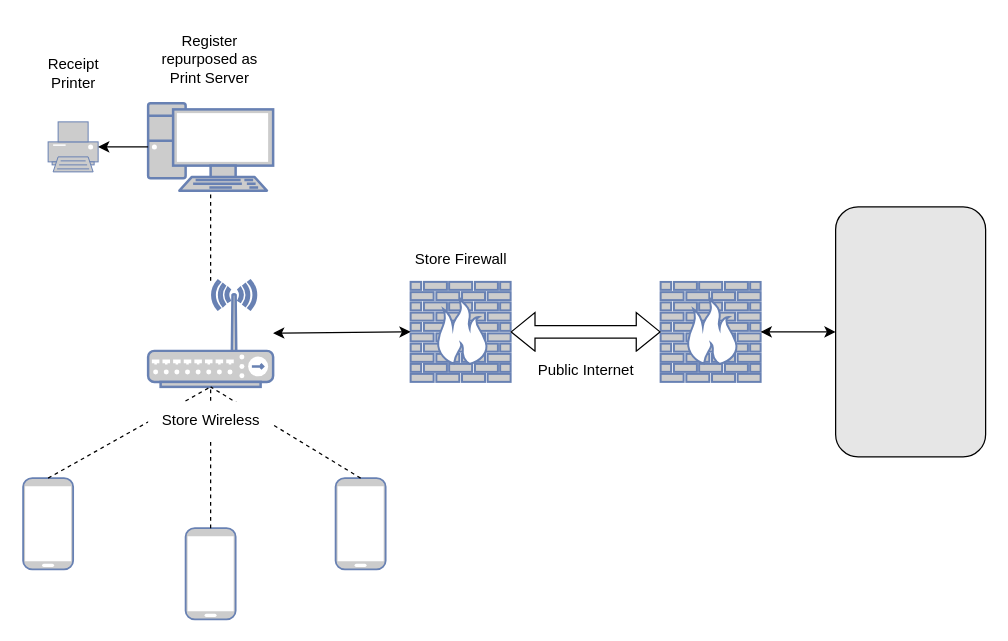
Image size: 1008x641. Some labels were removed from this diagram. Each missing label, with the box of its shape:
Data Center Firewall: (654, 230, 766, 280)
Order Services V3: (834, 206, 986, 457)
